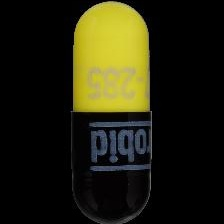43063-582: (0, 0, 224, 224)
